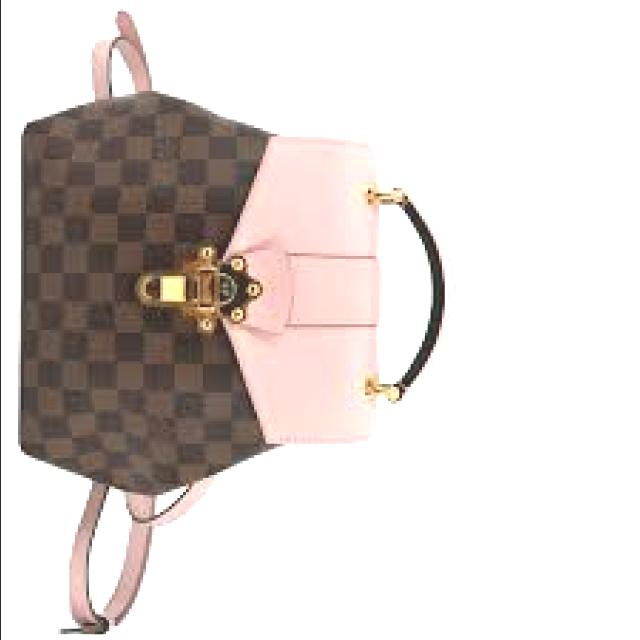backpack: (21, 10, 459, 636)
